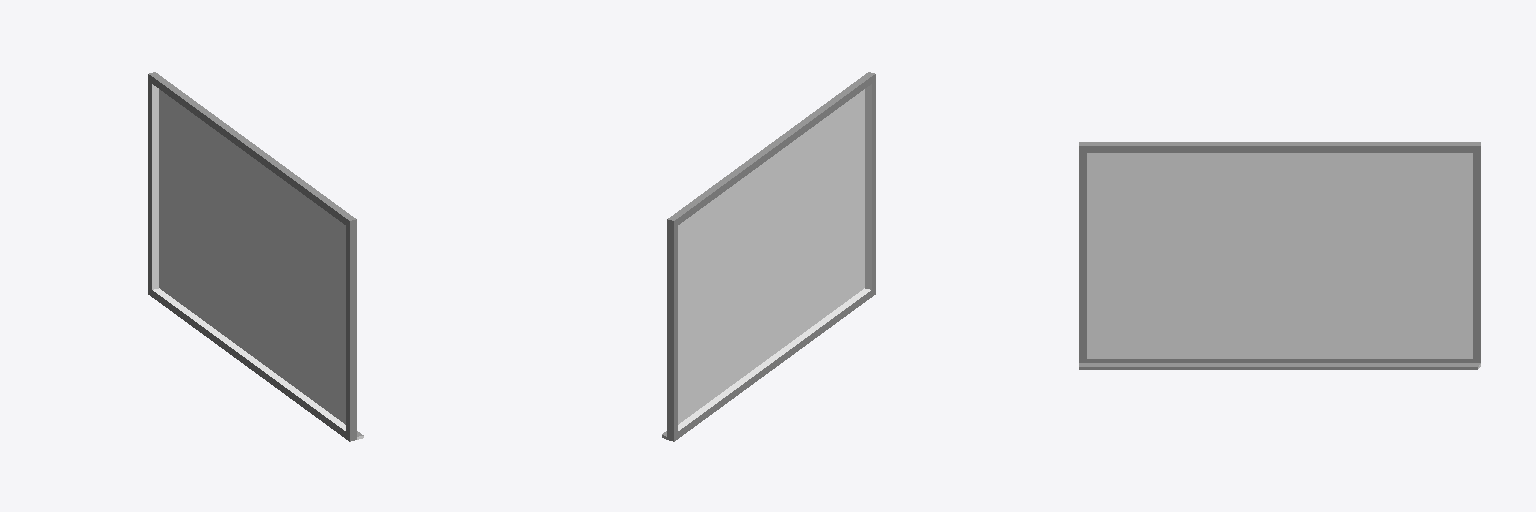
The picture shows the model from 3 angles: view 1: azimuth 30°, elevation 25°; view 2: azimuth 150°, elevation 25°; view 3: azimuth 270°, elevation 25°; orthographic projection.
Parts seen in each view (by area): view 1: Mesh1 pizarron1 Model; view 2: Mesh1 pizarron1 Model; view 3: Mesh1 pizarron1 Model.
Part boxes in pixels (left/top/right/bottom): Mesh1 pizarron1 Model: left=148, top=72, right=363, bottom=441; Mesh1 pizarron1 Model: left=662, top=72, right=875, bottom=441; Mesh1 pizarron1 Model: left=1079, top=142, right=1480, bottom=369.
Bounding box in the file's own units: 0.1 × 1.5 × 2.48.
3 materials, 2 textured.